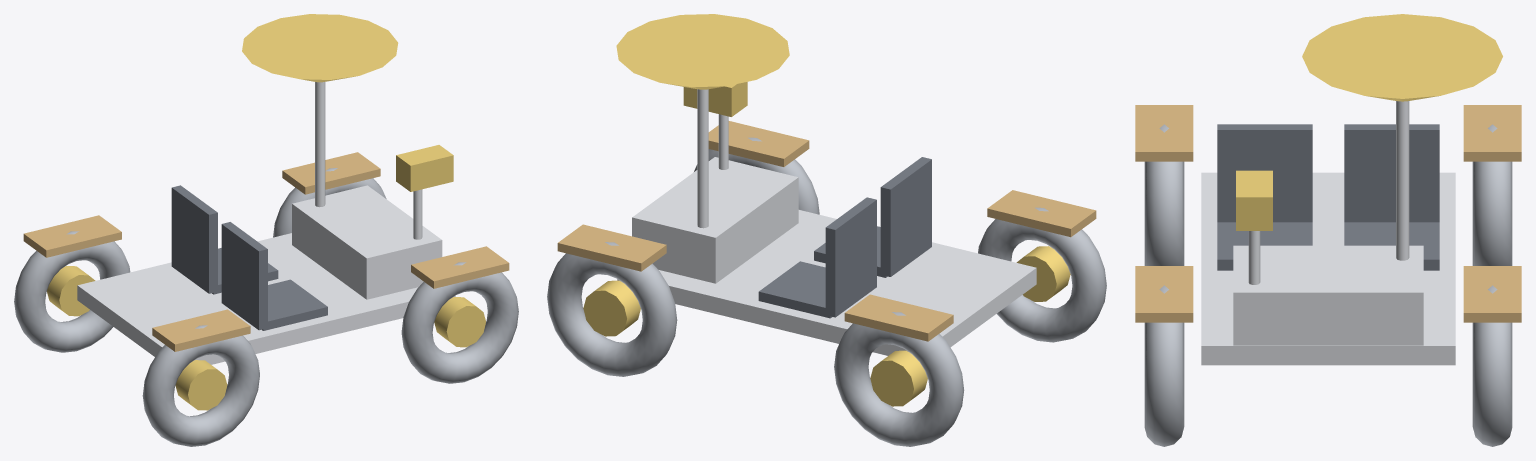
The model's file is apollo-lrv.glb.
The picture shows the model from 3 angles, left to right: view 1: azimuth 30°, elevation 25°; view 2: azimuth 150°, elevation 25°; view 3: azimuth 270°, elevation 25°; orthographic projection. The views are drawn at different scales.
Size of the model in its own units: 2.07 by 1.47 by 1.46.
